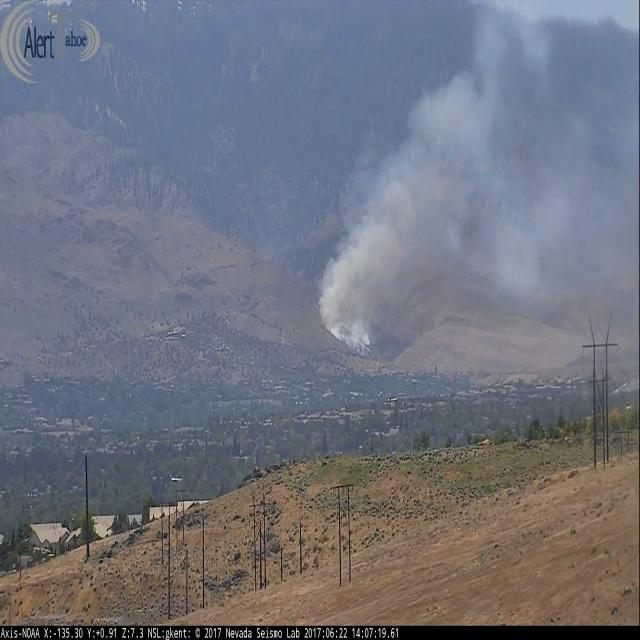smoke: (318, 72, 486, 354)
